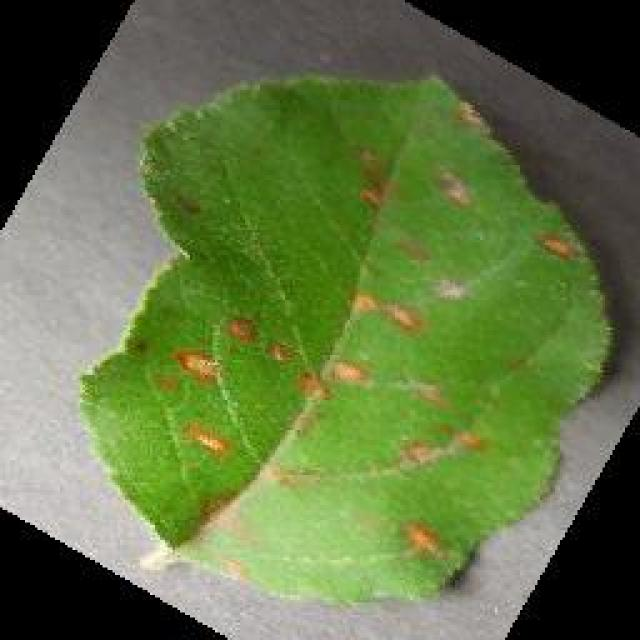apple scab disease: (75, 70, 617, 605)
